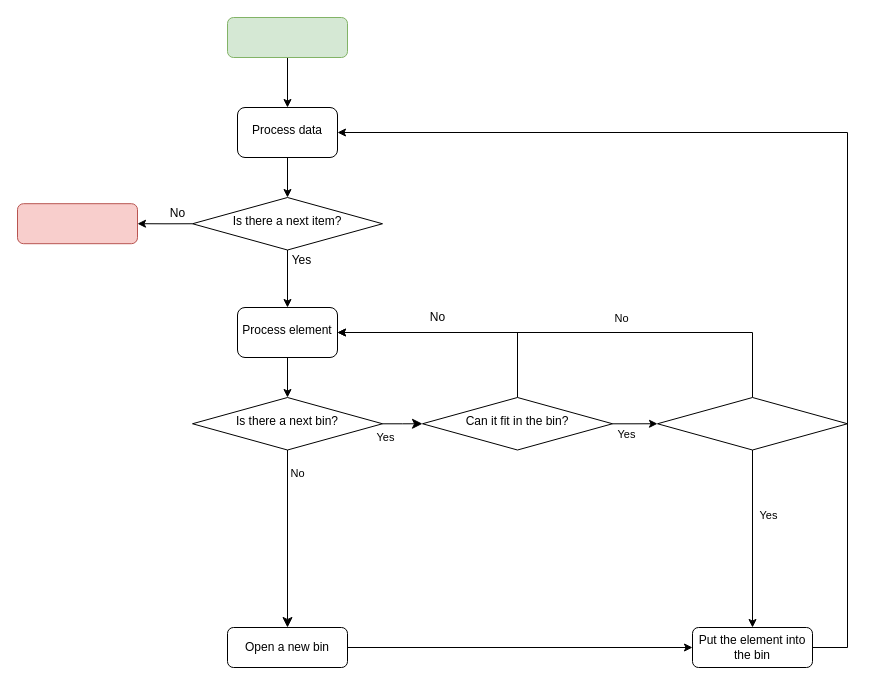
Some shapes in this 873 by 685 pixel diagram are drawn without their labels. The centre of each missing label's shape, as x and y in pixels:
Is it the best fitting bin?: the point at 752,423
Return used bins: the point at 77,223
Start bestFit algorithm: the point at 287,37
